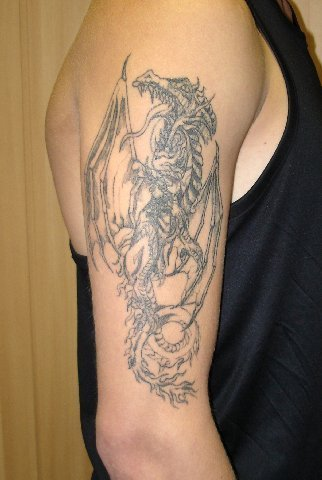tatu6_drakon: (79, 44, 230, 413)
